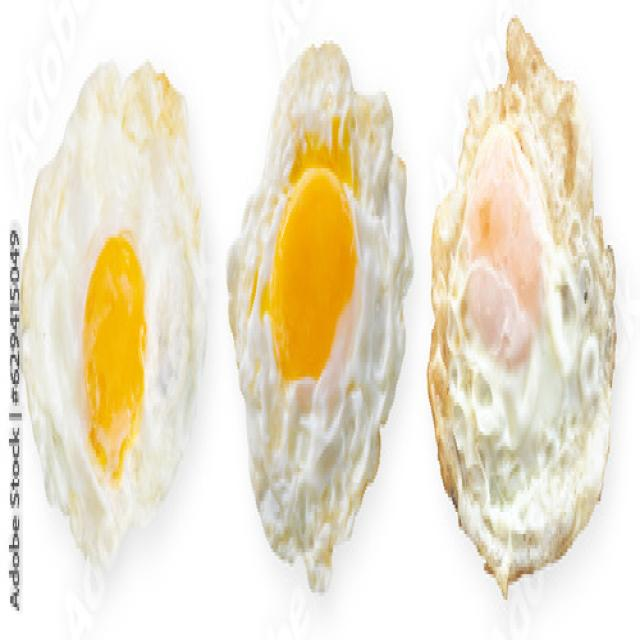Egg: (428, 18, 615, 591), (228, 43, 412, 589), (24, 64, 204, 559)
